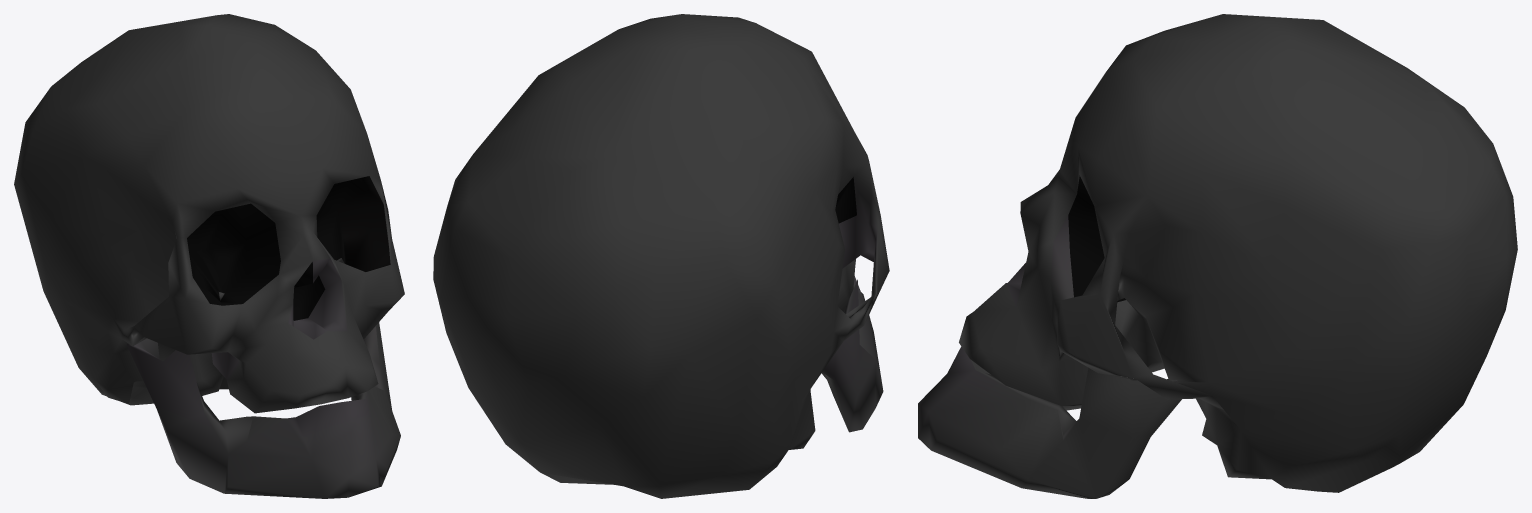
File: Skull03.glb
3 views of the same model, side by side, from view 1: azimuth 30°, elevation 25°; view 2: azimuth 150°, elevation 25°; view 3: azimuth 270°, elevation 25° (orthographic). The views are drawn at different scales.
Visible parts, largest first — view 1: Skull03; view 2: Skull03; view 3: Skull03.
Boxes of the visible parts, x1,y1,x2,y2 form: Skull03: (14, 14, 404, 498); Skull03: (433, 14, 889, 498); Skull03: (918, 14, 1517, 498).
Size of what is drawn, in the model's own units: 0.2005 by 0.2517 by 0.3132.
1 material, 1 textured.
